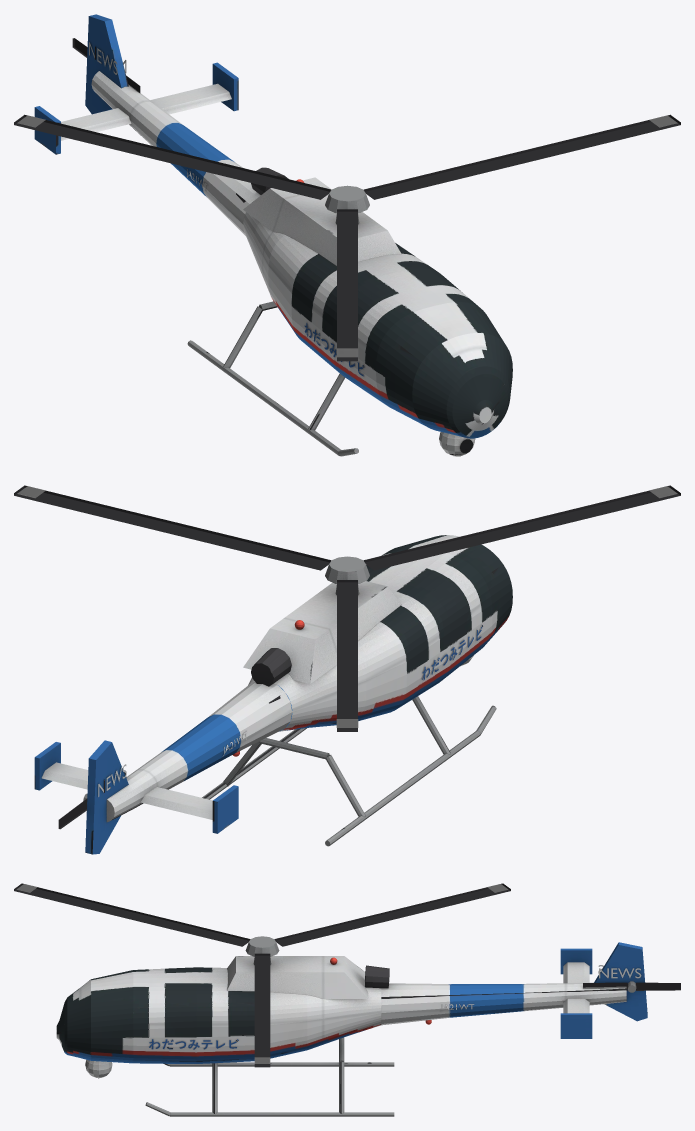
The model's file is newsheli.glb.
The picture shows the model from 3 angles, top to bottom: view 1: azimuth 30°, elevation 25°; view 2: azimuth 150°, elevation 25°; view 3: azimuth 270°, elevation 25°; orthographic projection. The views are drawn at different scales.
Parts seen in each view (by area): view 1: NewsHeli_Body, MainRotor; view 2: NewsHeli_Body, MainRotor; view 3: NewsHeli_Body, MainRotor, TailRotor.
Boxes of the visible parts, bbox=[...] form: NewsHeli_Body: bbox=[34, 14, 512, 456]; MainRotor: bbox=[14, 114, 680, 361]; NewsHeli_Body: bbox=[34, 535, 512, 854]; MainRotor: bbox=[14, 485, 680, 731]; NewsHeli_Body: bbox=[56, 942, 647, 1116]; MainRotor: bbox=[14, 883, 510, 1067]; TailRotor: bbox=[583, 981, 680, 992].
Size of the model in its own units: 8.15 by 3.12 by 12.64.
1 material, 1 textured.
